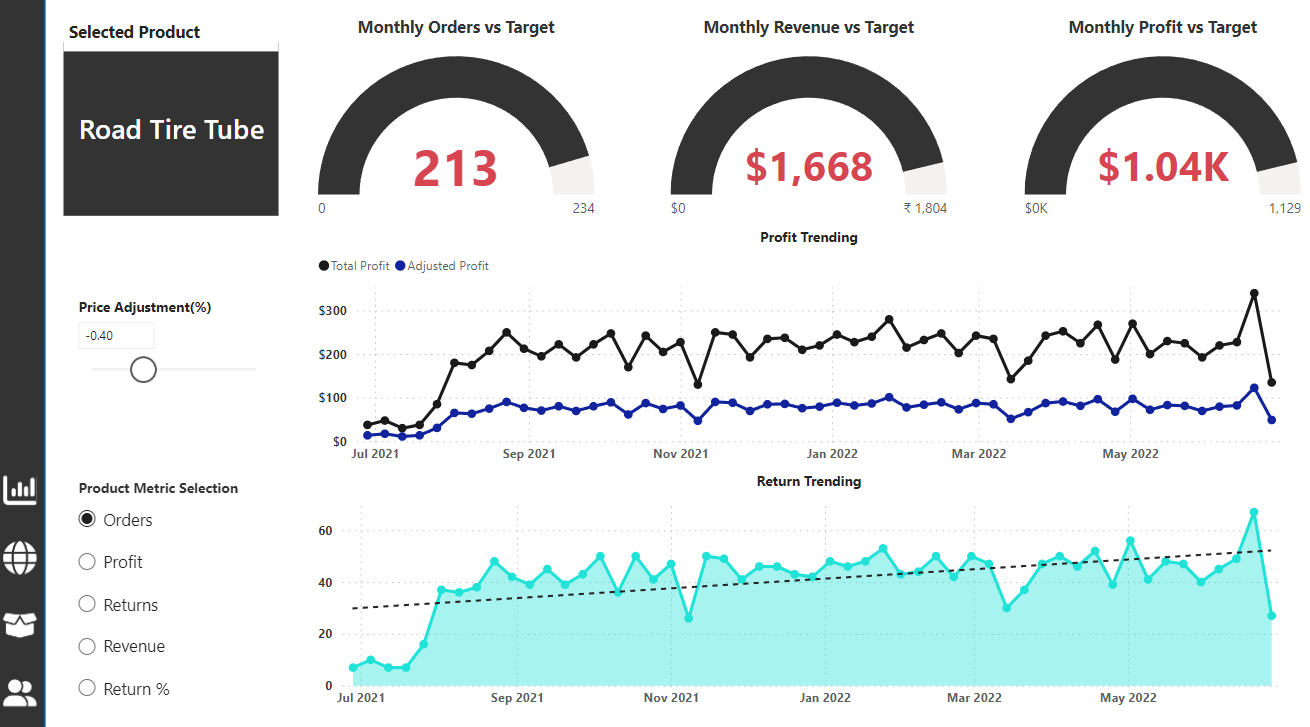

This screenshot's page, from the dashboard's own definition file:
{"tool":"powerbi","page":{"name":"Product Details","canvas":[1280,720],"ordinal":2},"visuals":[{"type":"shape","box":[0,0,45,720],"z":0},{"type":"actionButton","box":[0,461.5,85.8,40.5],"z":0,"group":"g1"},{"type":"gauge","title":"Monthly Orders vs Target","fields":{"Y":["Measure Table.Total Orders"],"MaxValue":["Measure Table.Order Target"]},"box":[304.4,21,278.5,220.2],"z":1000},{"type":"actionButton","box":[0,526.8,85.8,40.5],"z":1000,"group":"g1"},{"type":"gauge","title":"Monthly Revenue vs Target","fields":{"Y":["Measure Table.Total Revenue"],"MaxValue":["Measure Table.Revenue Target"]},"box":[646.9,21,278.5,220.2],"z":2000},{"type":"actionButton","box":[0,592.1,85.8,40.5],"z":2000,"group":"g1"},{"type":"gauge","title":"Monthly Profit vs Target","fields":{"Y":["Measure Table.Total Profit"],"MaxValue":["Measure Table.Profit Target"]},"box":[989.3,21,278.5,220.2],"z":3000},{"type":"actionButton","box":[0,657.4,85.8,40.5],"z":3000,"group":"g1"},{"type":"lineChart","title":"Profit Trending","fields":{"Category":["Calendar Lookup.Date Hierarchy.Start of Year","Calendar Lookup.Date Hierarchy.Start of Month","Calendar Lookup.Date Hierarchy.Start of Week","Calendar Lookup.Date Hierarchy.Date"],"Y":["Measure Table.Total Profit","Measure Table.Adjusted Profit"]},"box":[304.4,225.1,963.4,238],"z":4000},{"type":"areaChart","title":"Return Trending","fields":{"Category":["Calendar Lookup.Date Hierarchy.Start of Year","Calendar Lookup.Date Hierarchy.Start of Month","Calendar Lookup.Date Hierarchy.Start of Week","Calendar Lookup.Date Hierarchy.Date"],"Y":["Measure Table.Total Orders"]},"box":[304.4,463.1,963.4,238],"z":5000},{"type":"card","fields":{"Values":["Min(Product Lookup.ProductName)"]},"box":[63.1,47,208.9,168.4],"z":6000},{"type":"textbox","box":[63.1,21,208.9,35.6],"z":7000},{"type":"group","id":"g1","title":"Navigation Buttons","box":[0,461.5,85.8,236.4],"z":8000},{"type":"slicer","fields":{"Values":["Price Adjustment(%).Price Adjustment(%)"]},"box":[64.8,288.2,208.9,152.2],"z":9000},{"type":"slicer","fields":{"Values":["Metric Selection.Metric Selection"]},"box":[64.8,464.7,208.9,236.4],"z":10000}]}

Visuals, with their boxes on the page's 1280x720 design canvas (x1, y1, x2, y2). These are canvas units, not pixel positions in the 1310x727 screenshot, which may show the page scaled, cropped or inside an application window:
shape: region(0, 0, 45, 720)
actionButton: region(0, 462, 86, 502)
"Monthly Orders vs Target" gauge: region(304, 21, 583, 241)
actionButton: region(0, 527, 86, 567)
"Monthly Revenue vs Target" gauge: region(647, 21, 925, 241)
actionButton: region(0, 592, 86, 633)
"Monthly Profit vs Target" gauge: region(989, 21, 1268, 241)
actionButton: region(0, 657, 86, 698)
"Profit Trending" lineChart: region(304, 225, 1268, 463)
"Return Trending" areaChart: region(304, 463, 1268, 701)
card - Min(Product Lookup.ProductName): region(63, 47, 272, 215)
textbox: region(63, 21, 272, 57)
"Navigation Buttons" group: region(0, 462, 86, 698)
slicer - Price Adjustment(%).Price Adjustment(%): region(65, 288, 274, 440)
slicer - Metric Selection.Metric Selection: region(65, 465, 274, 701)
